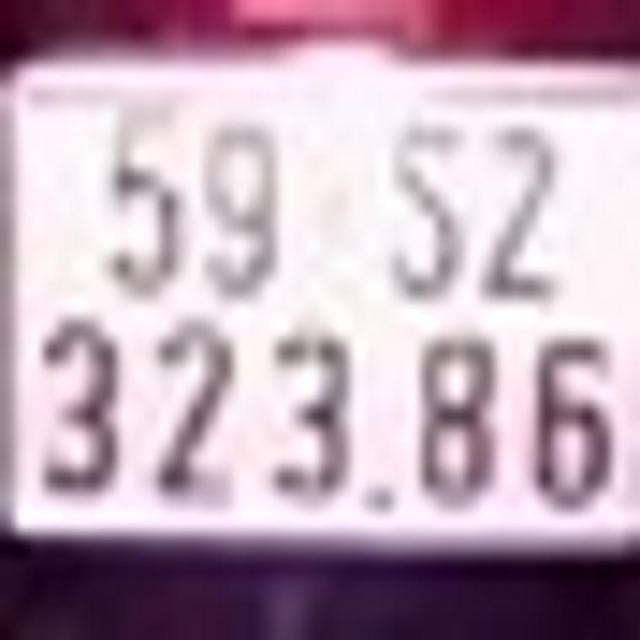2: (472, 115, 571, 308), (154, 310, 245, 500)
3: (267, 328, 359, 512), (40, 307, 128, 495)
5: (112, 104, 181, 307)
6: (527, 322, 621, 516)
8: (408, 322, 501, 521)
9: (199, 116, 282, 308)
S: (385, 117, 471, 304)
